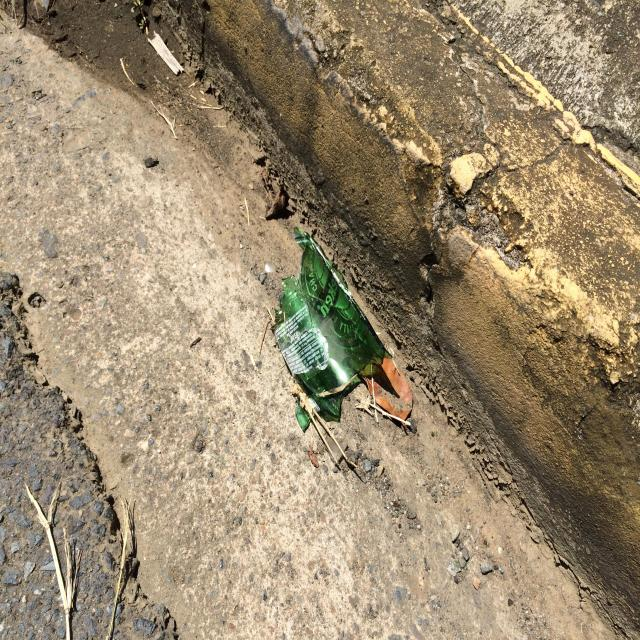litter: (274, 226, 392, 424), (148, 34, 184, 75), (296, 399, 310, 430)
